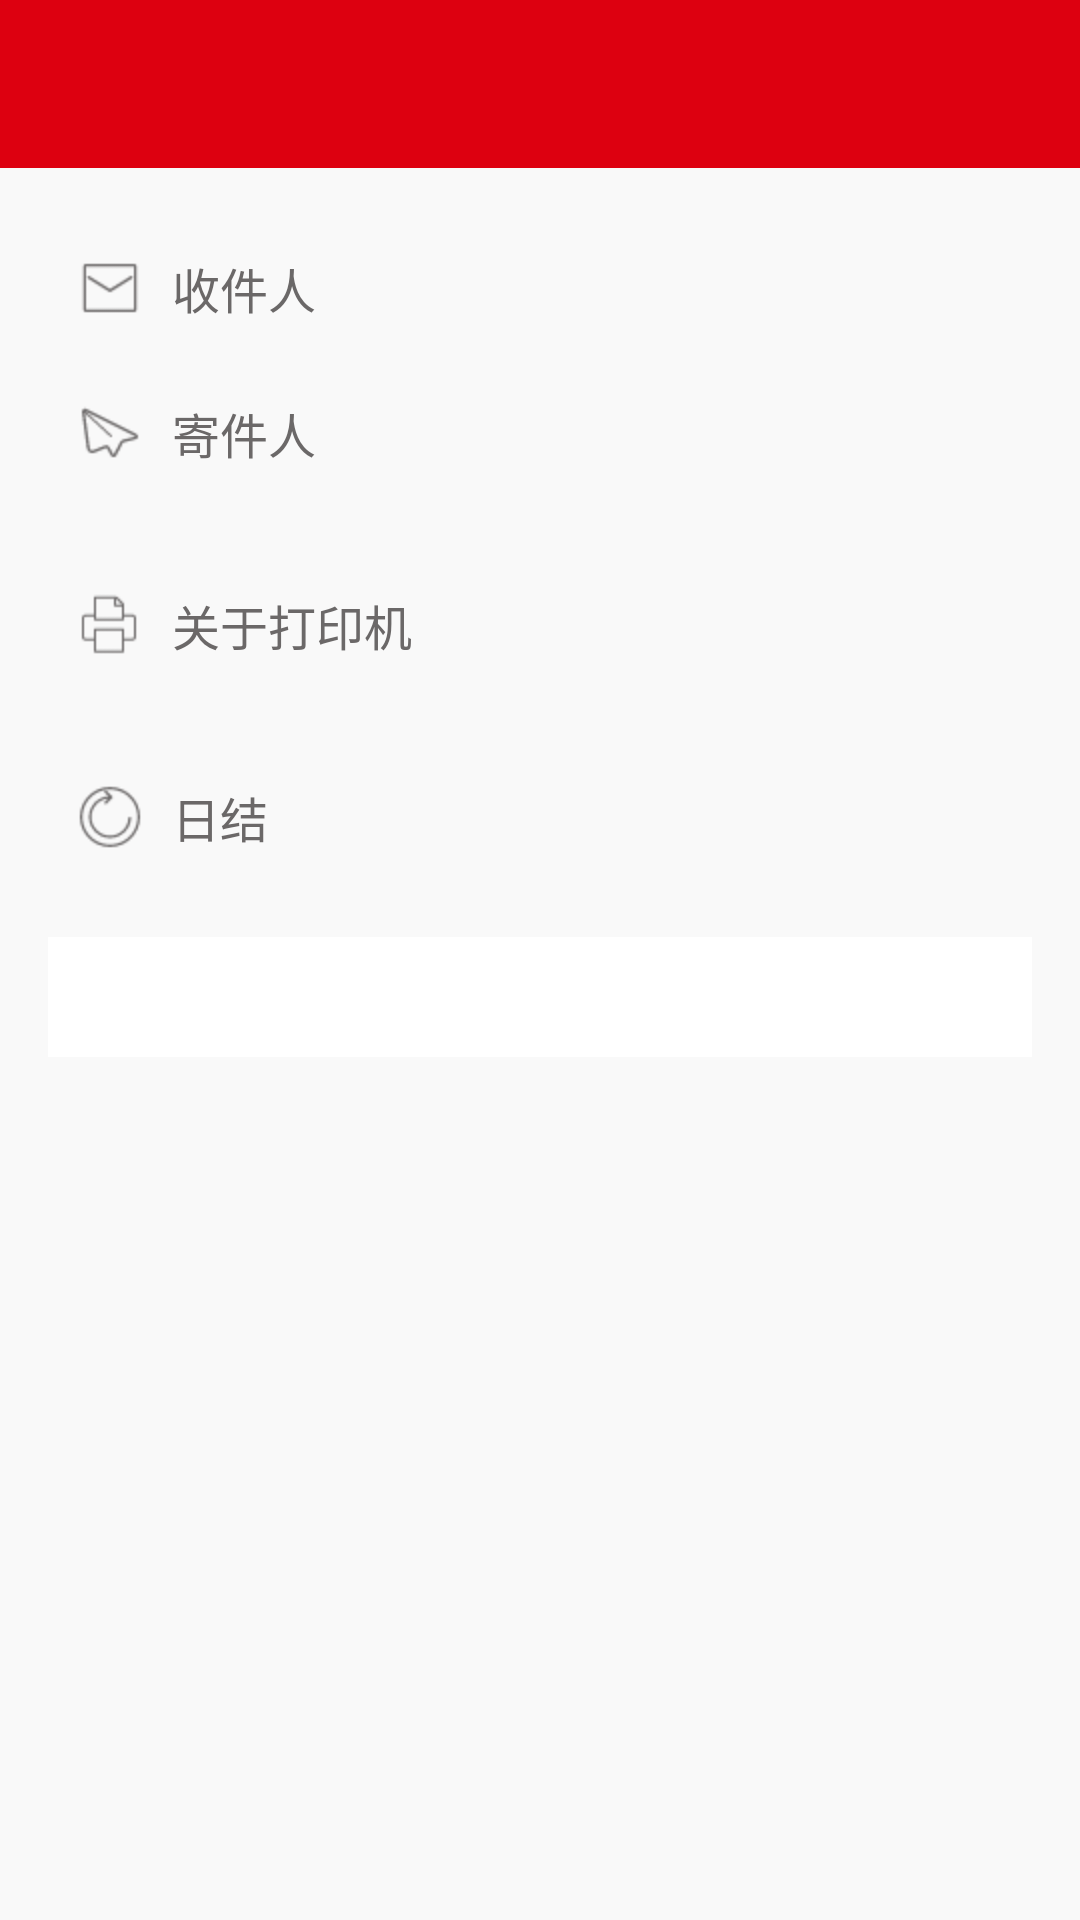

Where to tap for icons on this 1080px x 1920px app screen, as (x,y):
mine adress: (110,288)
mine print: (109,624)
mine send: (110,433)
